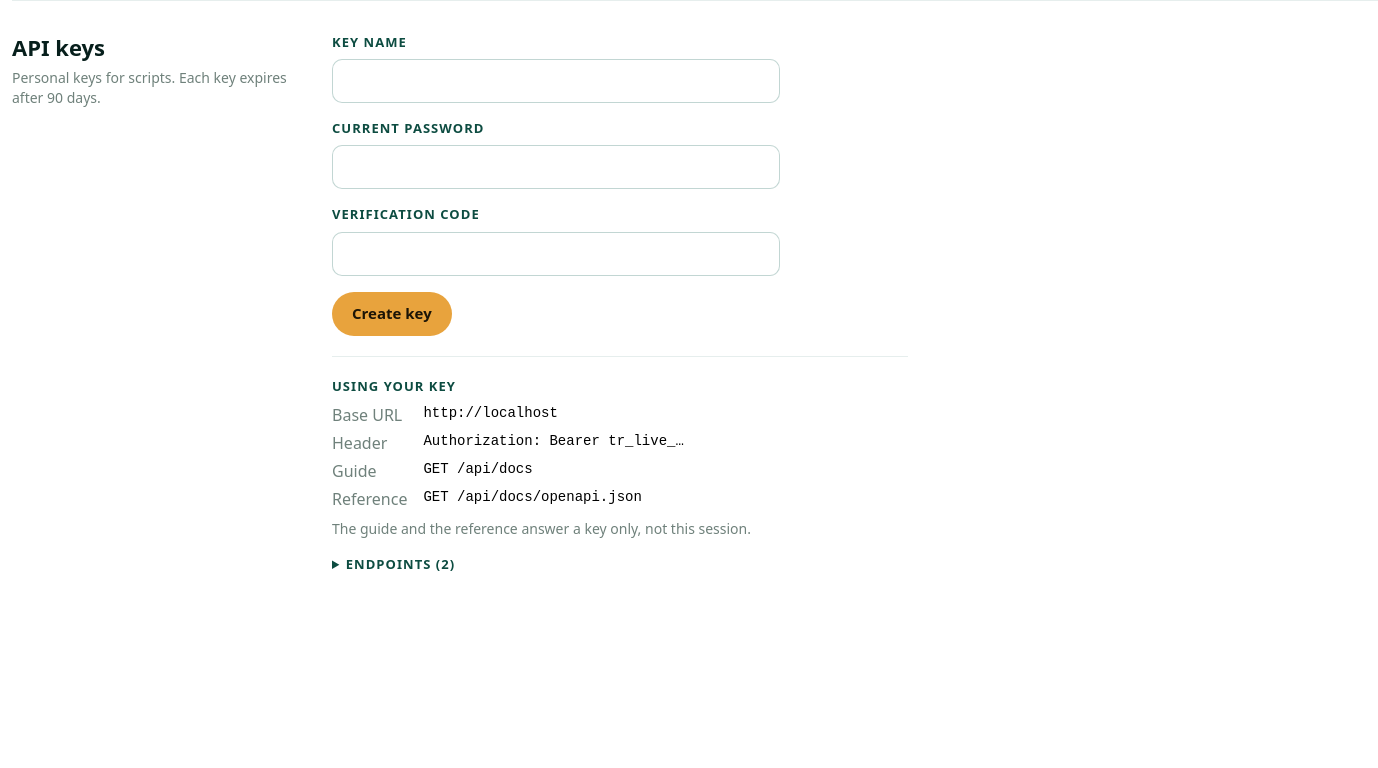
Test: RFC-82 R7 ApiKeysSection › maps AUTH_TOTP_INVALID to its message on a failed create
The width and height of the screenshot is (1378, 768).
Type "script" into the field labelled "Key name" at (556, 81), box [332,59,780,103]
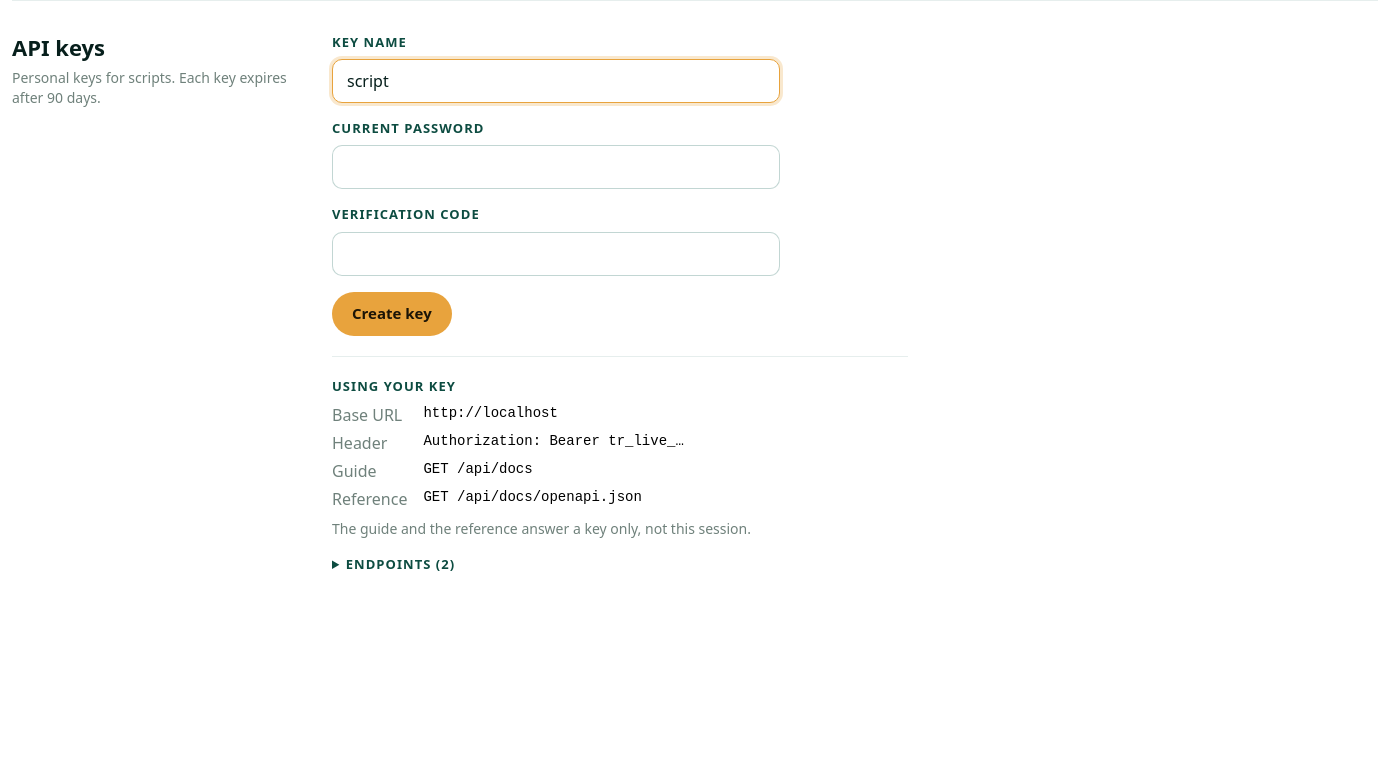
Type "pw" into the password field labelled "Current password" at (556, 167), box [332,145,780,189]
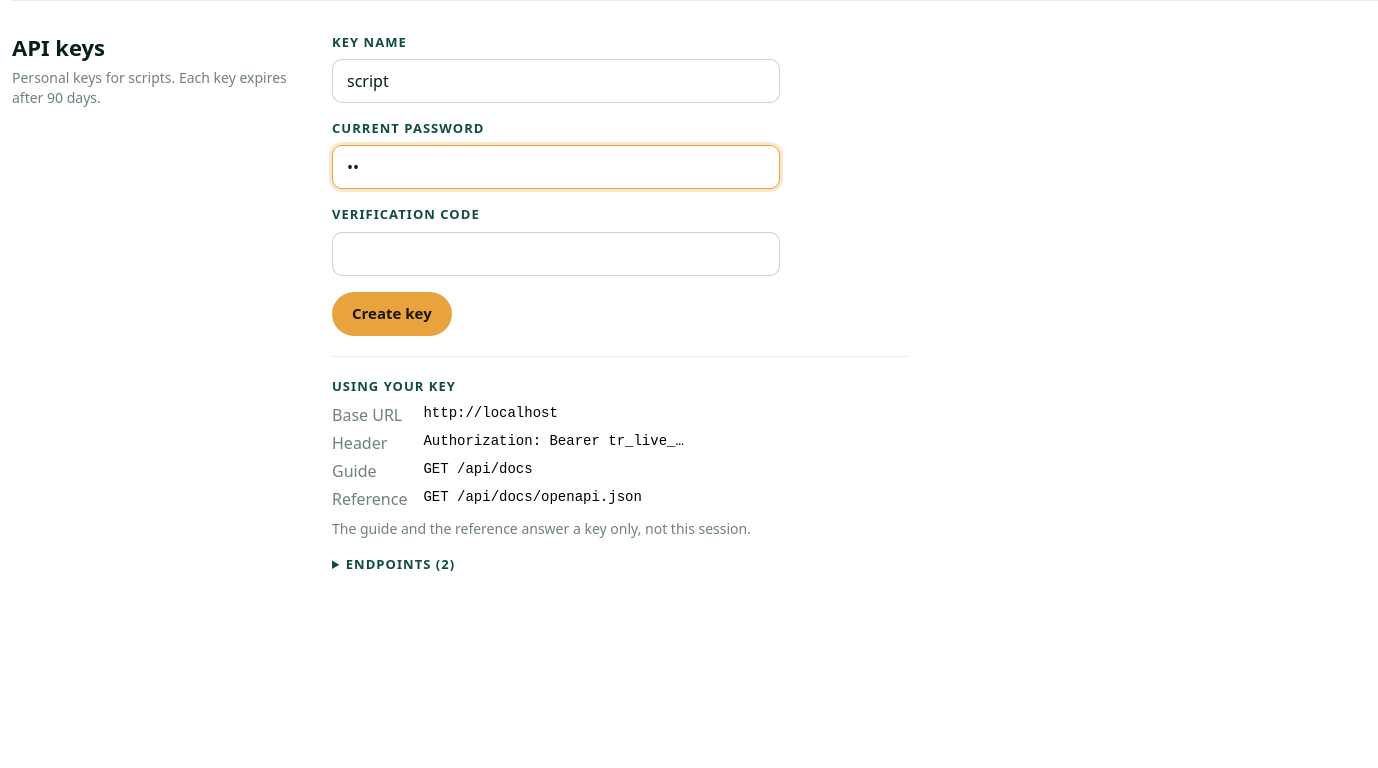
Type "123456" into the field labelled "Verification code" at (556, 254), box [332,232,780,276]
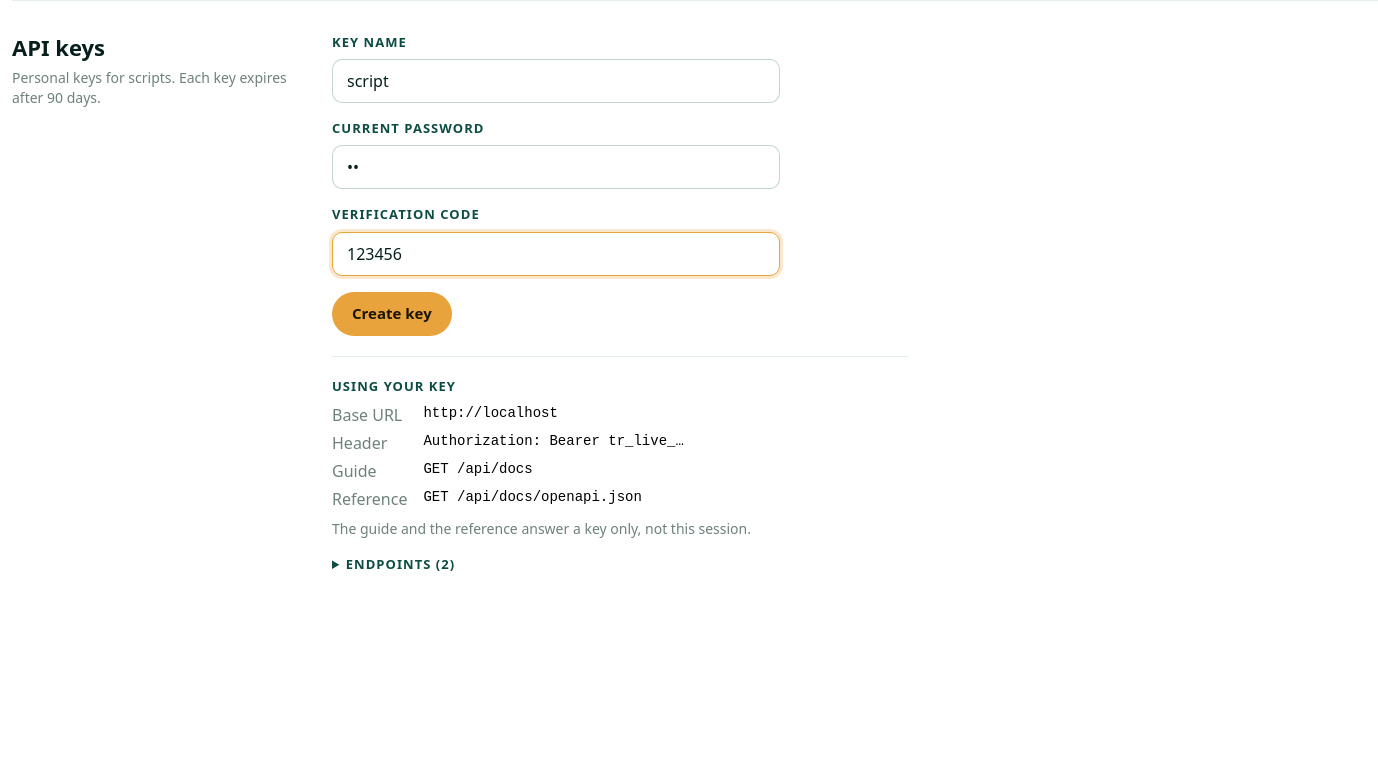
Click the button "Create key" at (392, 314), box [332,292,452,336]
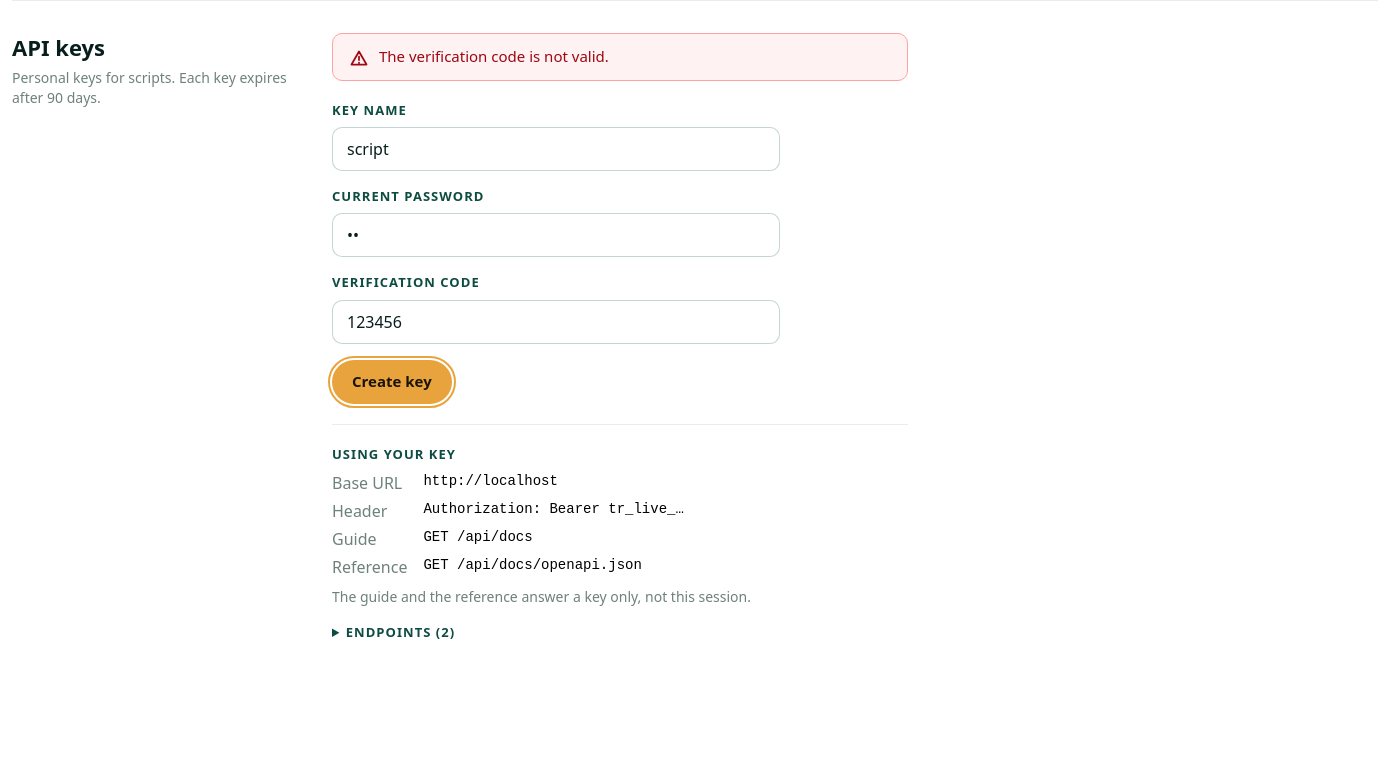
Check: the text "The verification code is not valid." is shown, box [379,46,609,68]
